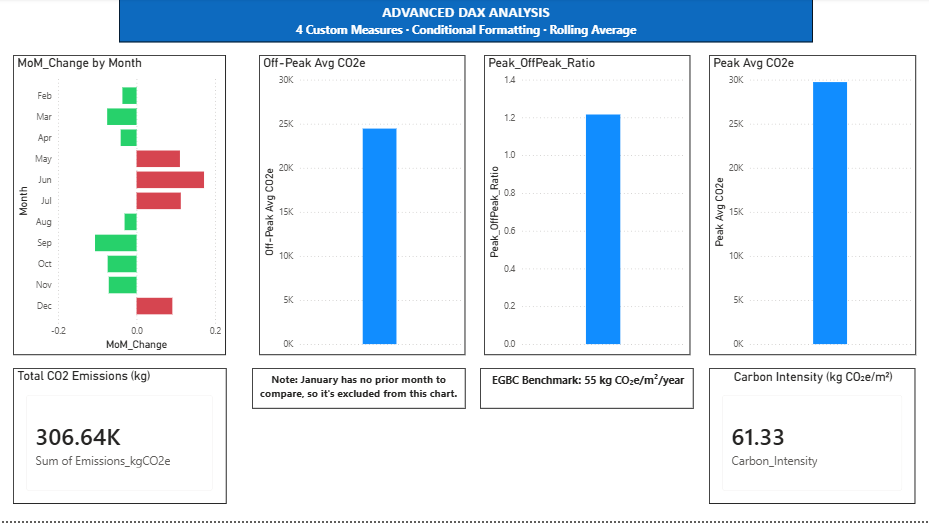

The page's visual inventory and layout, read from the dashboard file:
{"tool":"powerbi","page":{"name":"Advanced DAX Analysis","canvas":[1280,720],"ordinal":1},"visuals":[{"type":"clusteredBarChart","fields":{"Category":["energy_data.Month"],"Y":["energy_data.MoM_Change"]},"box":[17.9,78.5,271.1,412.9],"z":0},{"type":"clusteredColumnChart","fields":{"Y":["energy_data.Off-Peak Avg CO2e"]},"box":[305.5,78.5,261.5,412.9],"z":1000},{"type":"clusteredColumnChart","fields":{"Y":["energy_data.Peak Avg CO2e"]},"box":[869.8,78.5,261.5,412.9],"z":2000},{"type":"clusteredColumnChart","fields":{"Y":["energy_data.Peak_OffPeak_Ratio"]},"box":[587.7,78.5,261.5,412.9],"z":3000},{"type":"cardVisual","title":"Carbon Intensity (kg CO₂e/m²)","fields":{"Data":["energy_data.Carbon_Intensity"]},"box":[971.7,509.2,293.2,187.2],"z":4000},{"type":"cardVisual","title":"Total CO2 Emissions (kg)","fields":{"Data":["Sum(energy_data.Emissions_kgCO2e)"]},"box":[17.9,509.2,302.8,187.2],"z":5000},{"type":"textbox","box":[1154.8,115.6,110.1,159.7],"z":6000},{"type":"textbox","box":[1154.8,324.8,110.1,110.1],"z":7000},{"type":"textbox","box":[163.8,0,955.2,60.6],"z":8000},{"type":"lineChart","fields":{"Category":["energy_data.Month"],"Y":["Sum(energy_data.Emissions_kgCO2e)"],"Y2":["energy_data.Rolling_3M_Avg"]},"box":[341.3,509.2,598.7,187.2],"z":9000}]}

Visuals, with their boxes in screenshot pixels (x1, y1, x2, y2), scaled from the page's 1280x720 canvas onto the 929x524 screenshot:
clusteredBarChart - energy_data.Month x energy_data.MoM_Change: left=13, top=57, right=210, bottom=358
clusteredColumnChart - energy_data.Off-Peak Avg CO2e: left=222, top=57, right=412, bottom=358
clusteredColumnChart - energy_data.Peak Avg CO2e: left=631, top=57, right=821, bottom=358
clusteredColumnChart - energy_data.Peak_OffPeak_Ratio: left=427, top=57, right=616, bottom=358
"Carbon Intensity (kg CO₂e/m²)" cardVisual: left=705, top=371, right=918, bottom=507
"Total CO2 Emissions (kg)" cardVisual: left=13, top=371, right=233, bottom=507
textbox: left=838, top=84, right=918, bottom=200
textbox: left=838, top=236, right=918, bottom=317
textbox: left=119, top=0, right=812, bottom=44
lineChart - energy_data.Month x Sum(energy_data.Emissions_kgCO2e): left=248, top=371, right=682, bottom=507
